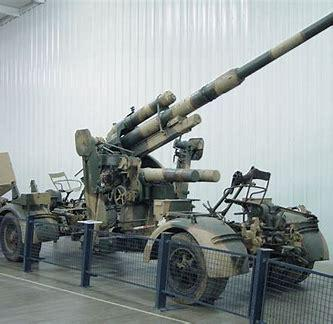MIL_SPG: (0, 16, 333, 270)
